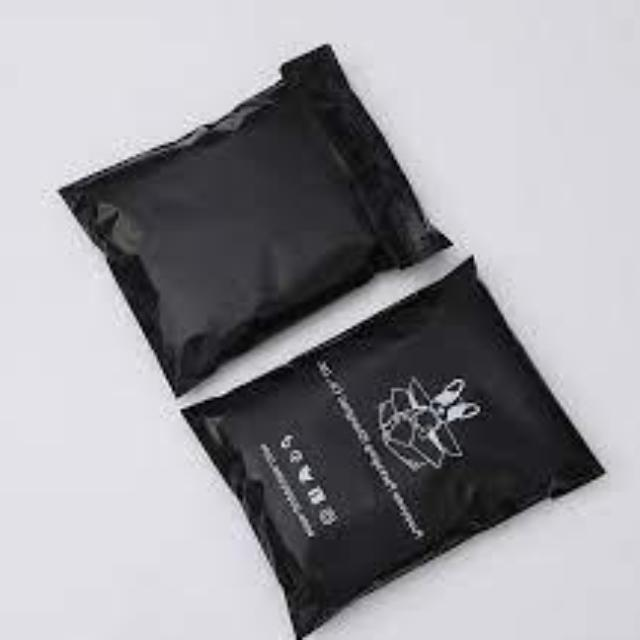mailer: (146, 234, 640, 640), (59, 45, 465, 398)
